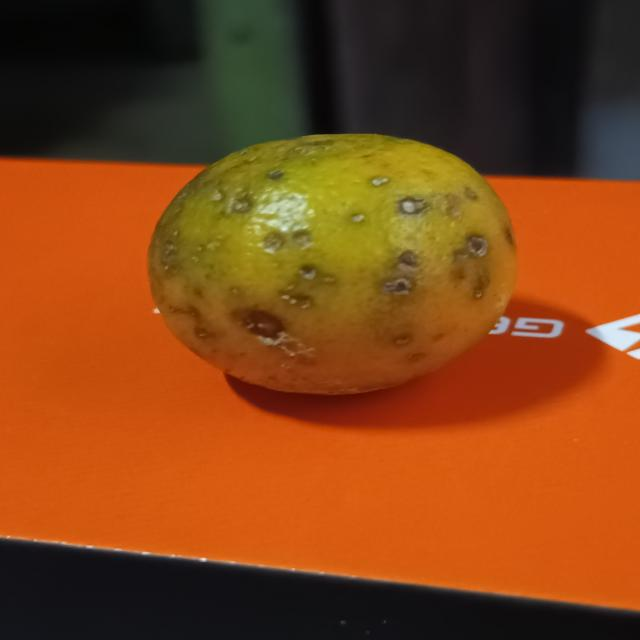black spot: (144, 126, 533, 408)
